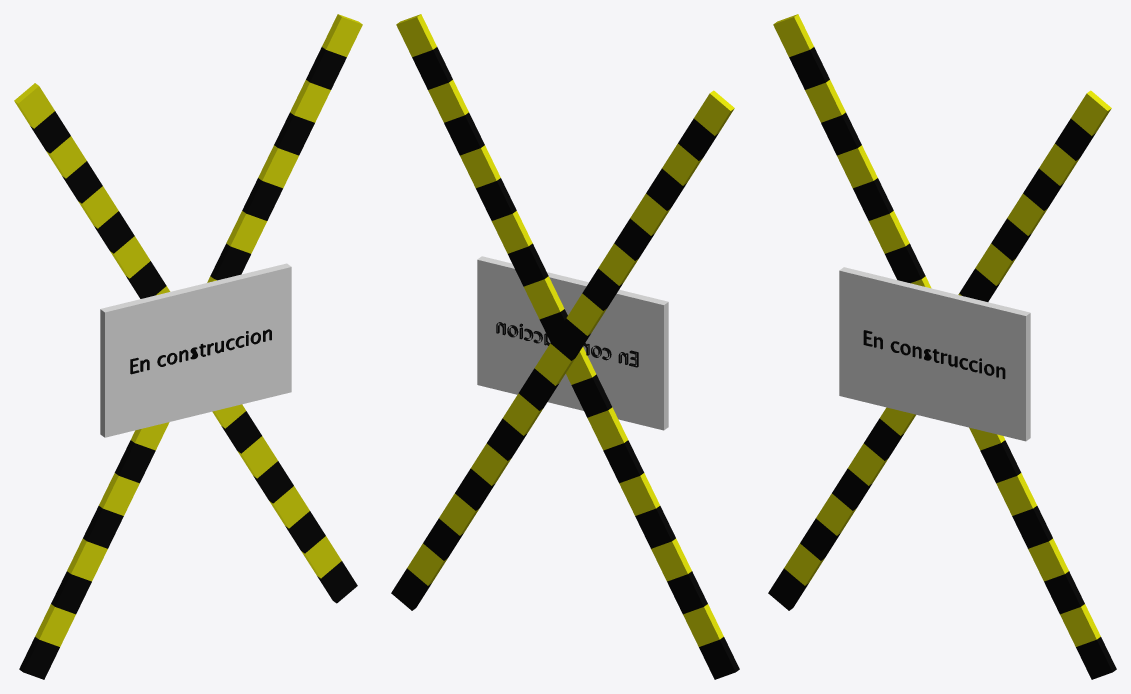
File: EN_CONSTRU.fbx
The picture shows the model from 3 angles, left to right: view 1: azimuth 30°, elevation 25°; view 2: azimuth 150°, elevation 25°; view 3: azimuth 330°, elevation 25°; orthographic projection.
Parts seen in each view (by area): view 1: typeMesh2; view 2: typeMesh2; view 3: typeMesh2.
Boxes of the visible parts, <box> form: typeMesh2: <box>14,14,362,679</box>; typeMesh2: <box>391,14,739,679</box>; typeMesh2: <box>768,14,1116,679</box>.
Size of the model in its own units: 5.71 by 9.48 by 0.4474.
